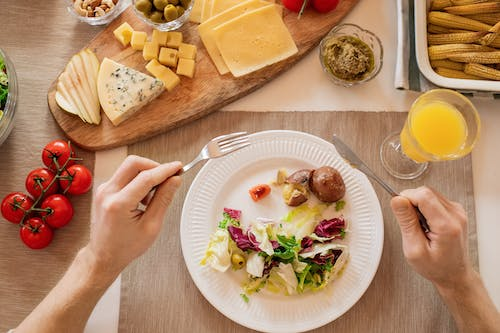knife: (331, 132, 399, 197)
